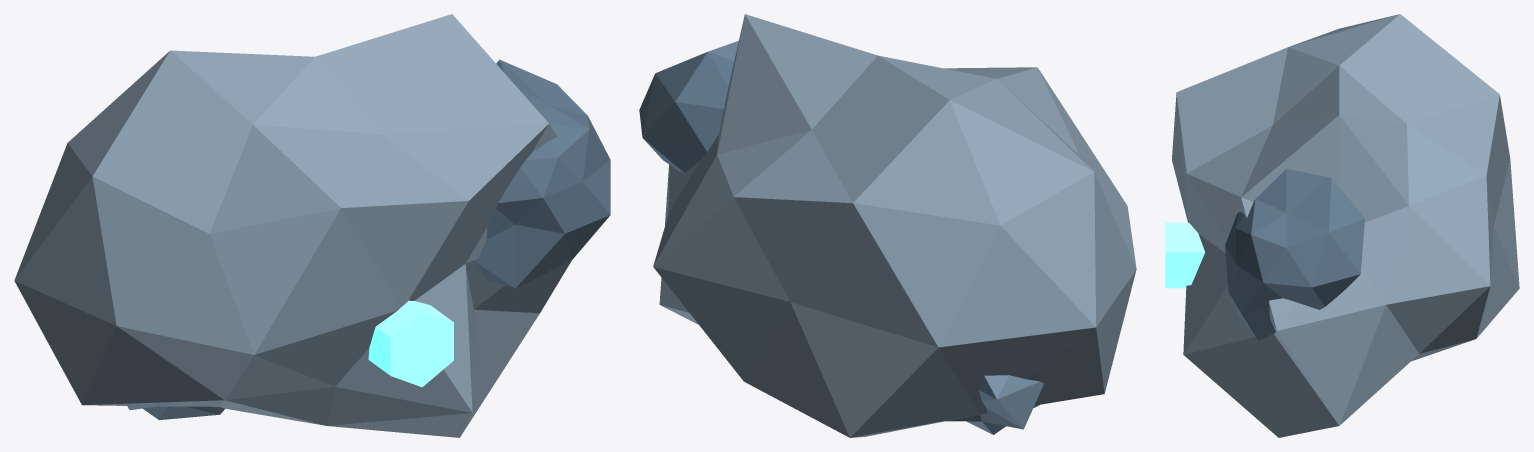
Rendered from asteroid_3.glb.
3 views of the same model, side by side, from view 1: azimuth 30°, elevation 25°; view 2: azimuth 150°, elevation 25°; view 3: azimuth 270°, elevation 25° (orthographic). The views are drawn at different scales.
Parts seen in each view (by area): view 1: asteroid | main mass, asteroid | satellite shard, asteroid | exposed crystal, asteroid | trailing fragment; view 2: asteroid | main mass, asteroid | satellite shard, asteroid | trailing fragment; view 3: asteroid | main mass, asteroid | satellite shard, asteroid | exposed crystal.
Boxes of the visible parts, <box> form: asteroid | main mass: <box>14,14,571,437</box>; asteroid | satellite shard: <box>475,59,610,288</box>; asteroid | exposed crystal: <box>368,300,453,387</box>; asteroid | trailing fragment: <box>127,402,224,420</box>; asteroid | main mass: <box>653,14,1136,437</box>; asteroid | satellite shard: <box>639,40,738,172</box>; asteroid | trailing fragment: <box>945,375,1044,434</box>; asteroid | main mass: <box>1172,14,1519,437</box>; asteroid | satellite shard: <box>1225,169,1364,340</box>; asteroid | exposed crystal: <box>1165,222,1205,288</box>.
Bounding box in the file's own units: 4.88 × 3.48 × 3.34.
